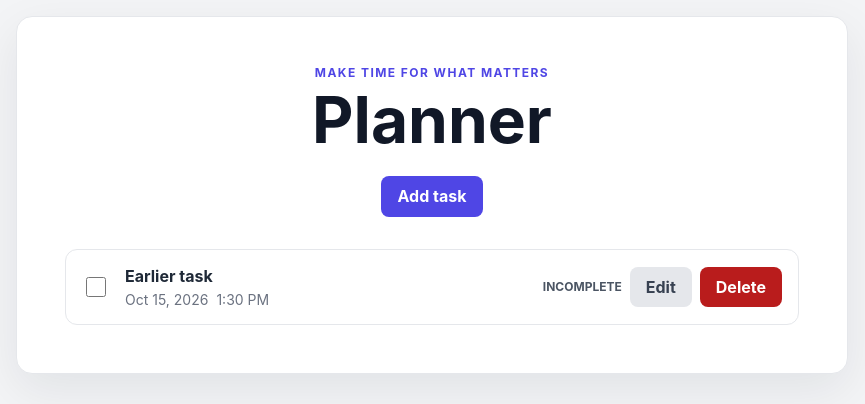
Test: App › toggles completion and persists the new state
Click the checkbox named "Mark Earlier task as complete" at point(96, 287), box [86,277,106,297]
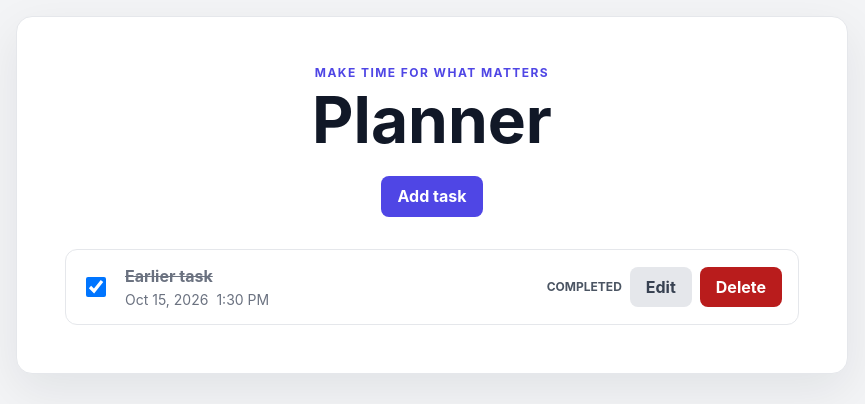
Result: the text "Completed" is shown at [547,279,622,294]
Click the checkbox named "Mark Earlier task as incomplete" at point(96, 287), box [86,277,106,297]
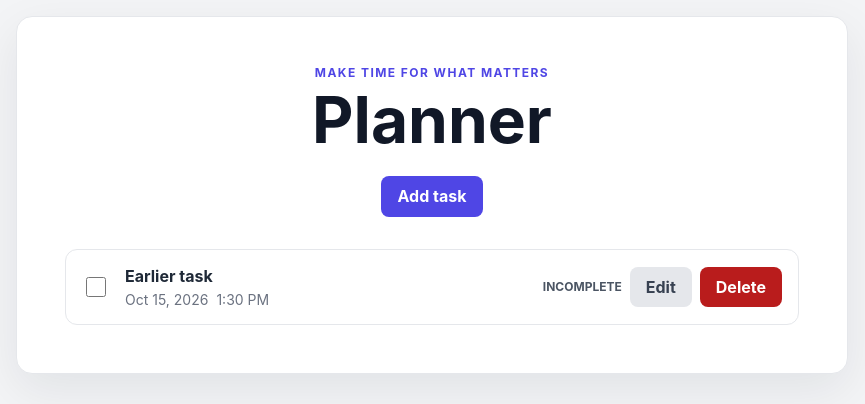
Result: the text "Incomplete" is shown at [543,279,622,294]
